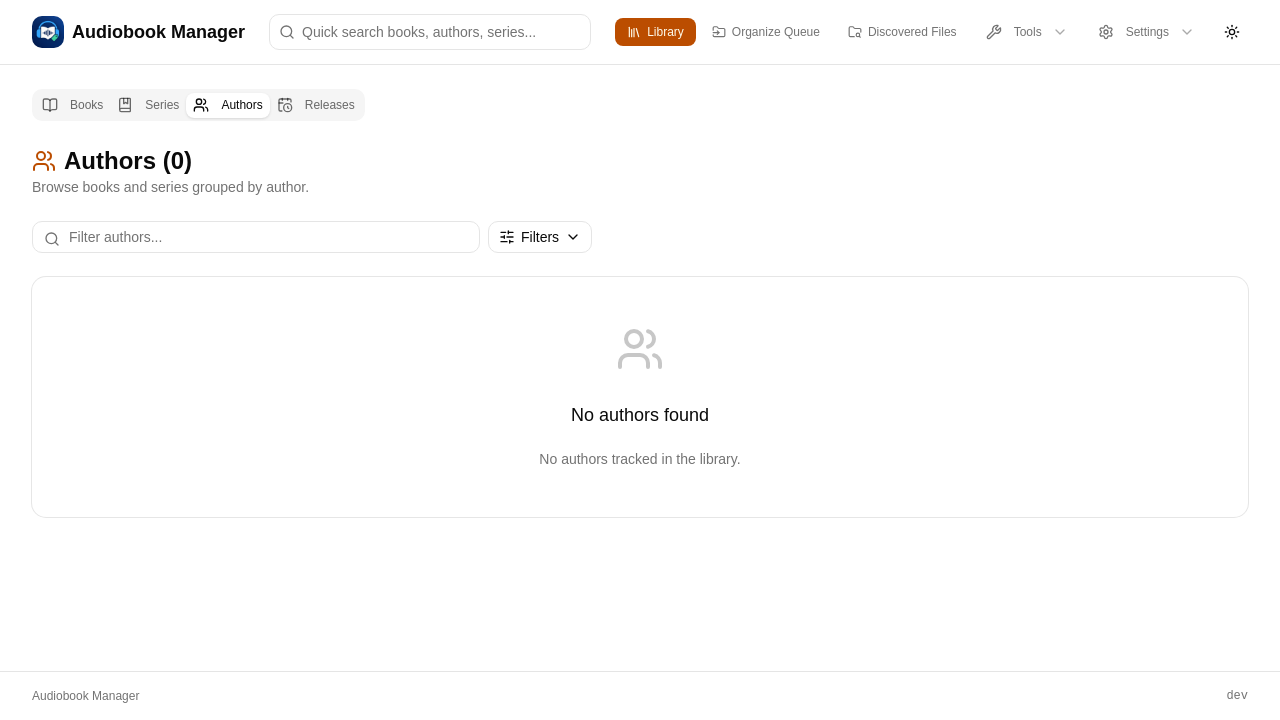
Test: AuthorsList › starts with the filter bar collapsed, and expands it on toggle
Expected: the field with placeholder "Filter authors..." is shown, 32,221 -> 480,253
Click the button "Filters" at (540, 237), box 488,221 -> 592,253
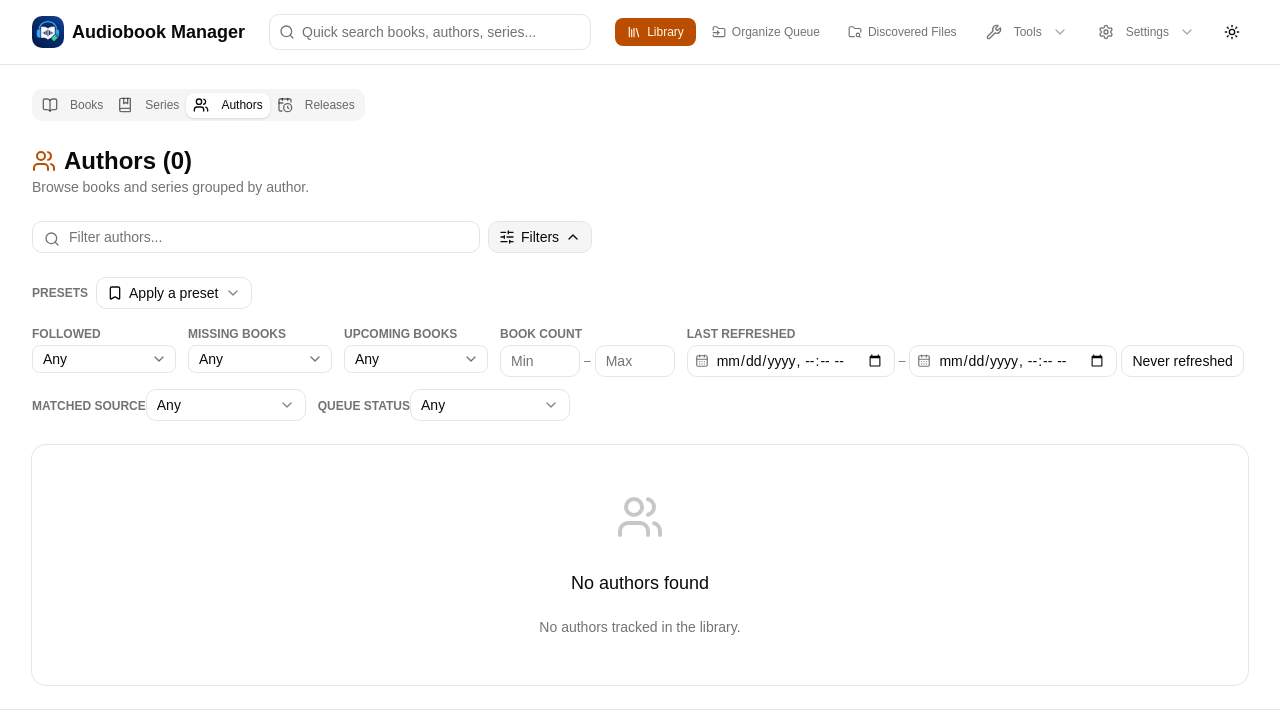
Expected: the button "Filters" is expanded, 488,221 -> 592,253
Expected: the number field named "Book count minimum" is shown, 500,345 -> 580,377
